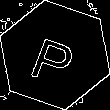P_N: (28, 25, 82, 85)
